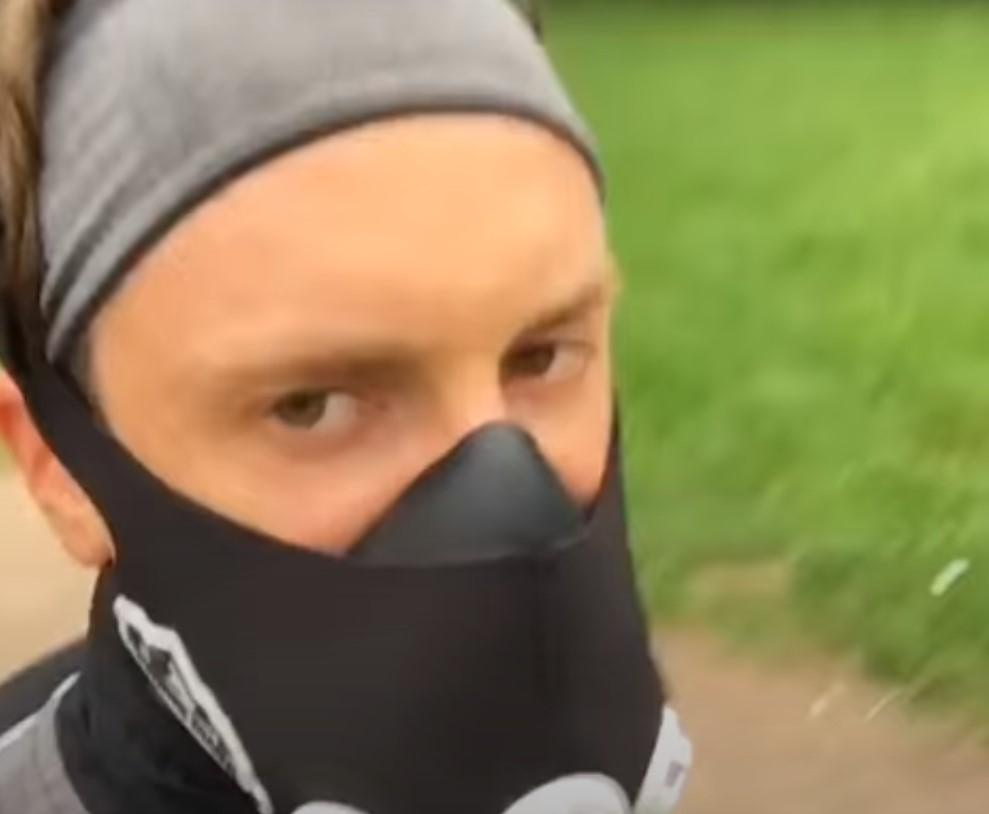face_with_mask: (3, 7, 702, 813)
